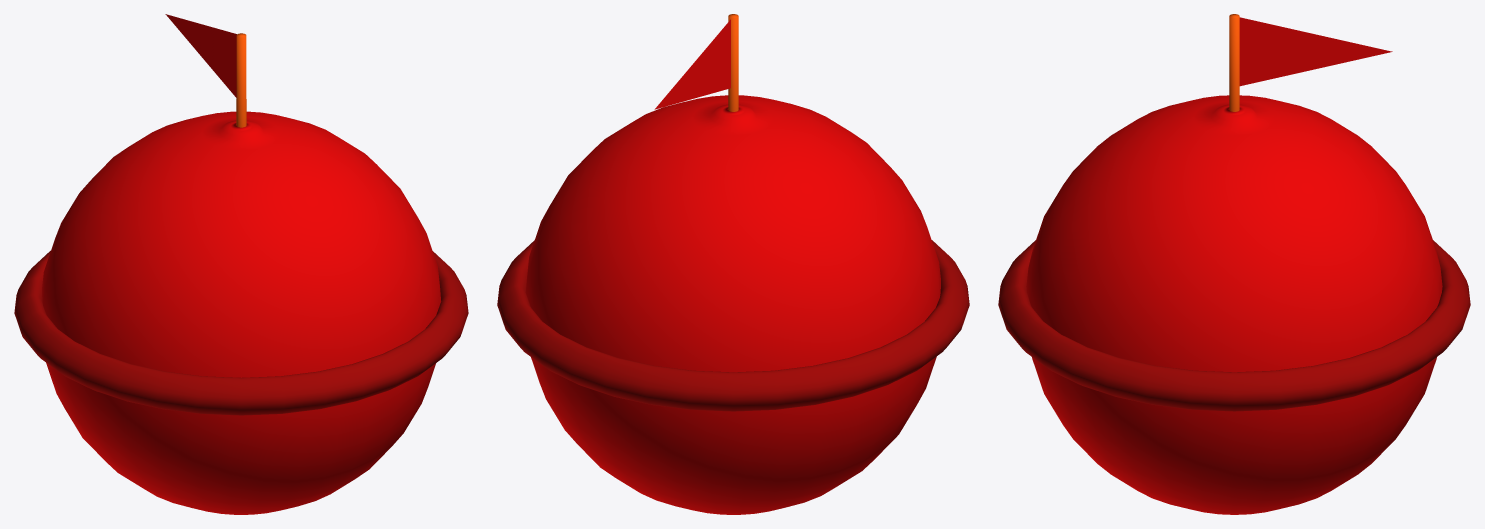
Rendered from buoy.fbx.
The picture shows the model from 3 angles, left to right: view 1: azimuth 30°, elevation 25°; view 2: azimuth 150°, elevation 25°; view 3: azimuth 270°, elevation 25°; orthographic projection. The views are drawn at different scales.
Visible parts, largest first — view 1: Sphere; view 2: Sphere; view 3: Sphere.
Part boxes in pixels (<box>): Sphere: <box>14,14,468,514</box>; Sphere: <box>497,14,969,514</box>; Sphere: <box>998,14,1470,514</box>.
Size of the model in its own units: 81.56 by 91.49 by 81.65.
